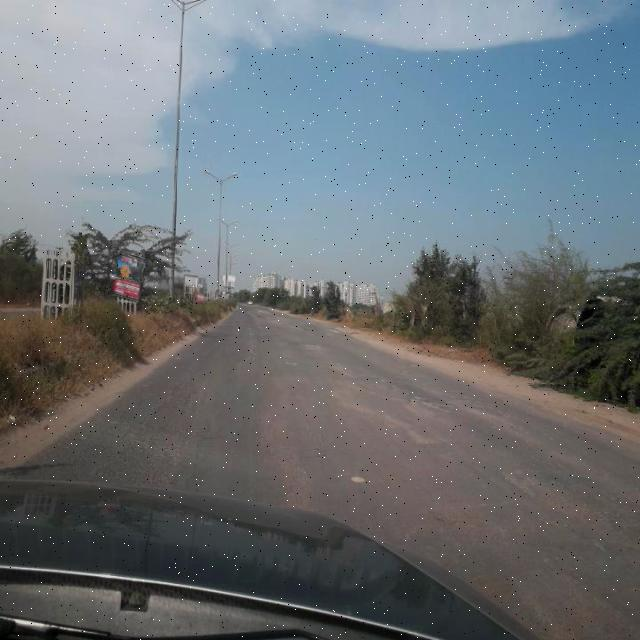D20: (36, 369, 223, 484)
D40: (500, 460, 640, 538), (410, 386, 474, 421), (294, 337, 334, 359)
